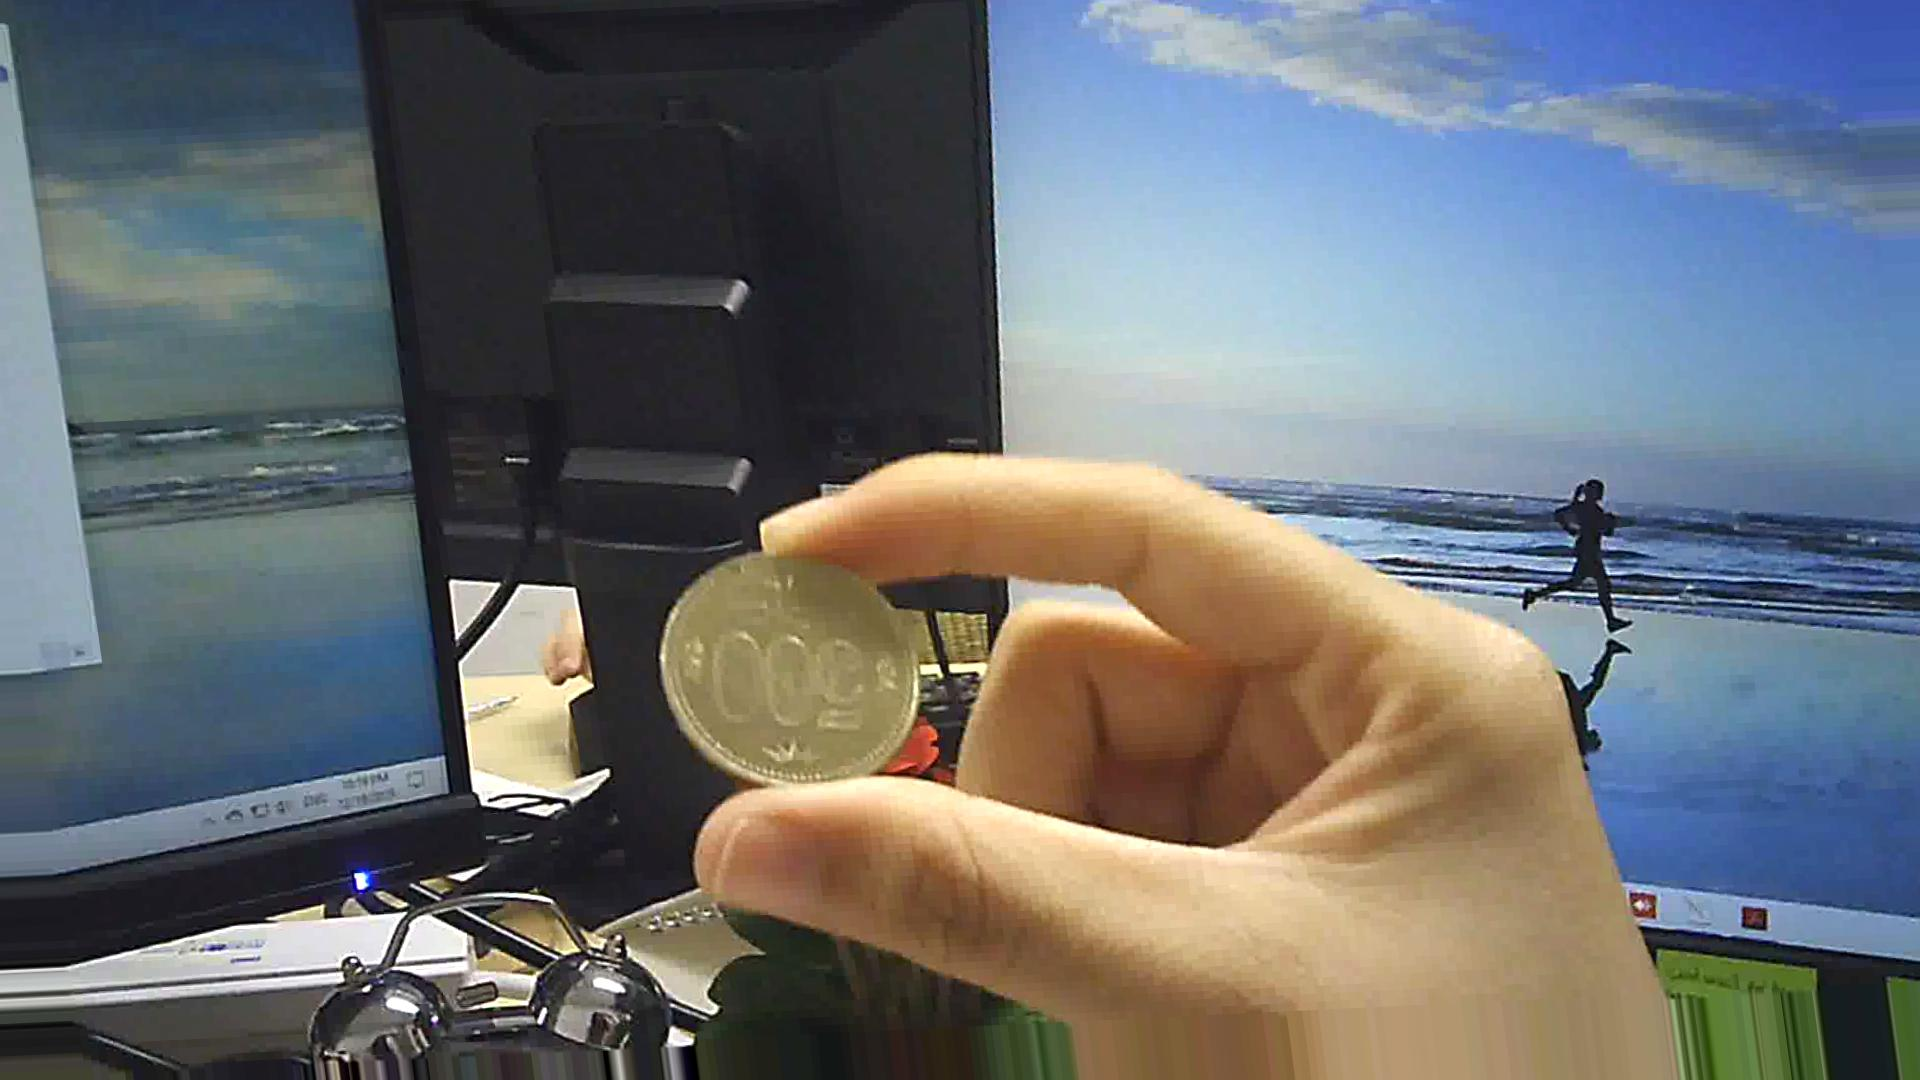500 Yen: (644, 539, 932, 794)
